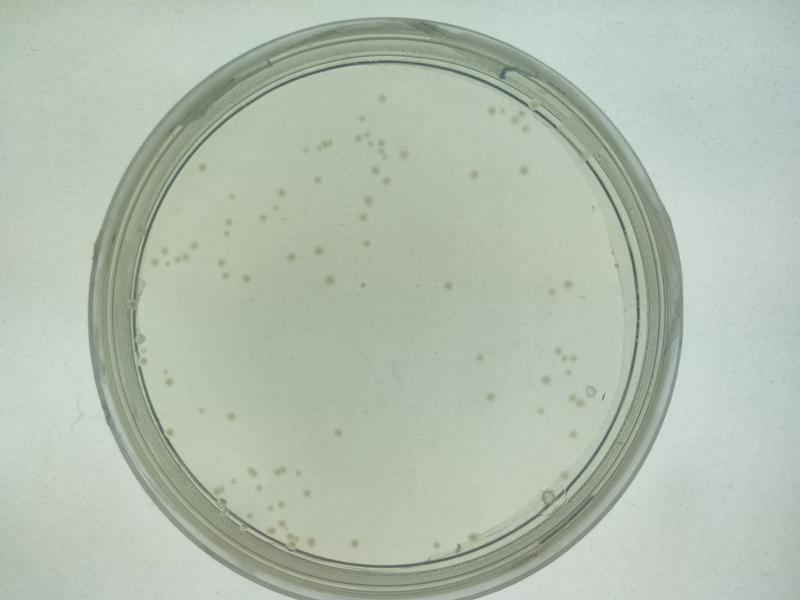colony: (213, 400, 247, 429), (233, 266, 264, 293), (324, 419, 354, 446), (338, 530, 371, 553), (314, 268, 347, 291), (460, 157, 484, 187), (559, 269, 586, 295), (482, 383, 503, 415), (307, 234, 331, 262), (467, 343, 492, 369), (514, 156, 537, 184), (271, 177, 297, 201), (277, 247, 304, 270), (356, 188, 383, 210), (435, 276, 464, 296), (355, 230, 374, 259), (394, 143, 417, 165)
